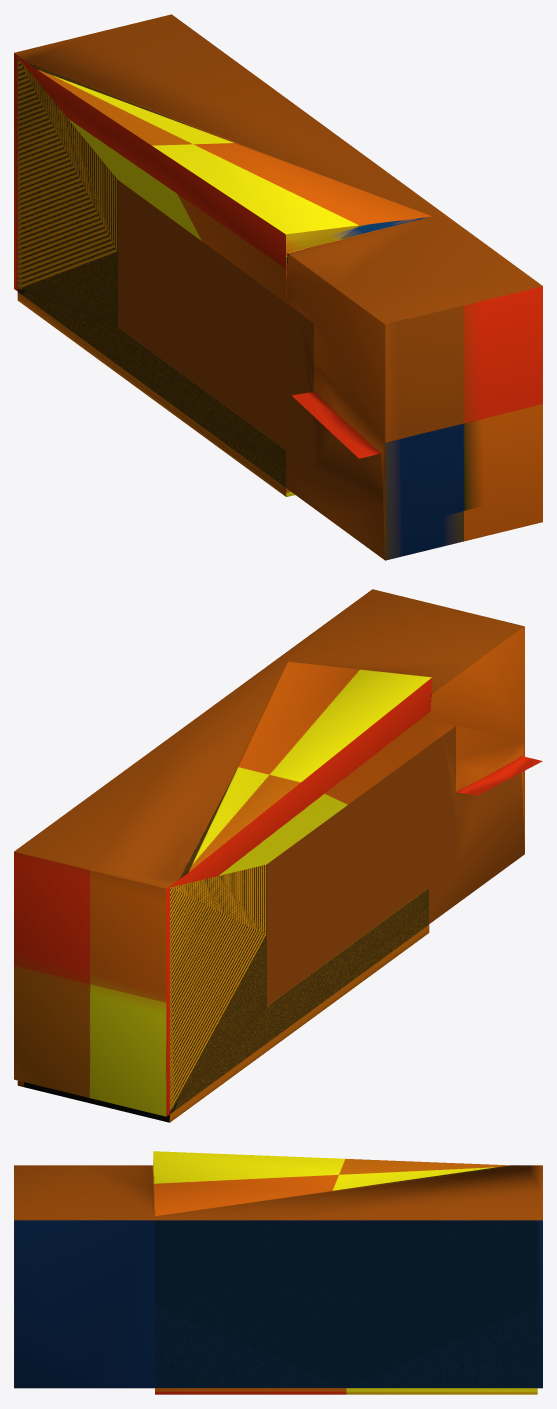
The model's file is garage-server-closet.glb.
The picture shows the model from 3 angles, top to bottom: view 1: azimuth 30°, elevation 25°; view 2: azimuth 150°, elevation 25°; view 3: azimuth 270°, elevation 25°; orthographic projection. The views are drawn at different scales.
Parts seen in each view (by area): view 1: garage-server-closet_export; view 2: garage-server-closet_export; view 3: garage-server-closet_export.
Part boxes in pixels (left/top/right/bottom): garage-server-closet_export: left=14, top=14, right=542, bottom=560; garage-server-closet_export: left=14, top=589, right=542, bottom=1122; garage-server-closet_export: left=14, top=1151, right=542, bottom=1394.
Size of the model in its own units: 0.5448 by 0.7631 by 1.94.
1 material, 1 textured.
